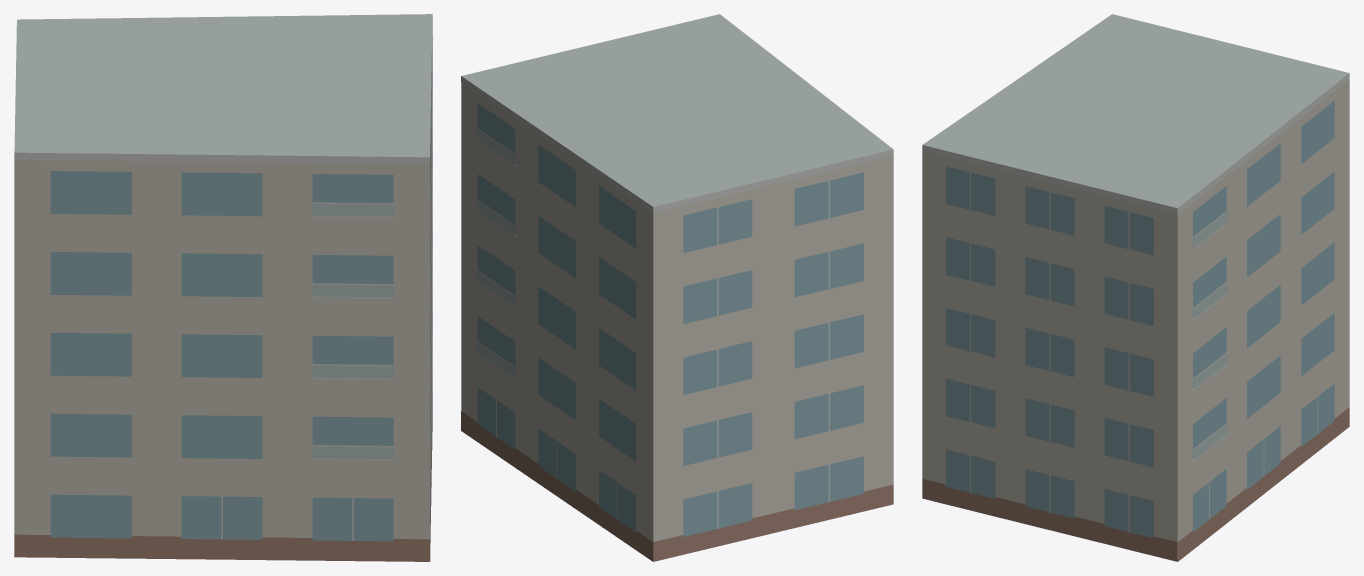
Rendered from survey-upis-32870637.glb.
3 views of the same model, side by side, from view 1: azimuth 30°, elevation 25°; view 2: azimuth 150°, elevation 25°; view 3: azimuth 270°, elevation 25° (orthographic). The views are drawn at different scales.
Parts seen in each view (by area): view 1: survey-upis-32870637.tmp; view 2: survey-upis-32870637.tmp; view 3: survey-upis-32870637.tmp.
Part boxes in pixels (<box>): survey-upis-32870637.tmp: <box>14,14,432,561</box>; survey-upis-32870637.tmp: <box>461,14,893,561</box>; survey-upis-32870637.tmp: <box>922,14,1349,561</box>.
Bounding box in the file's own units: 16.15 × 13.7 × 15.01.
